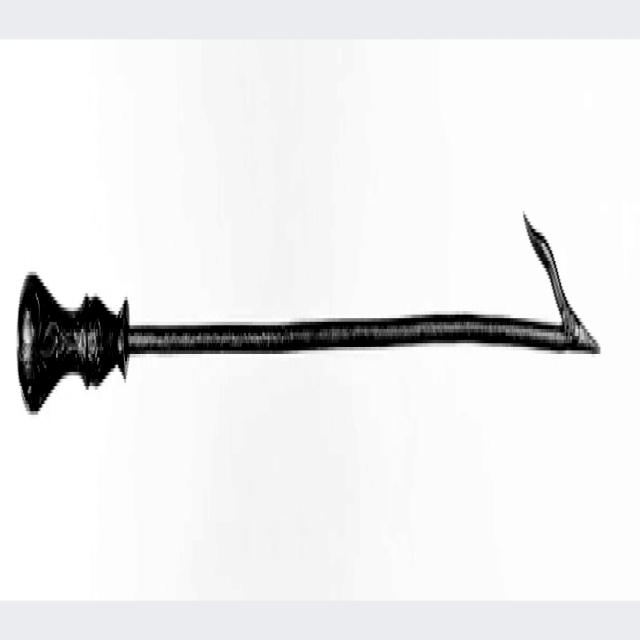spear: (8, 184, 612, 466)
